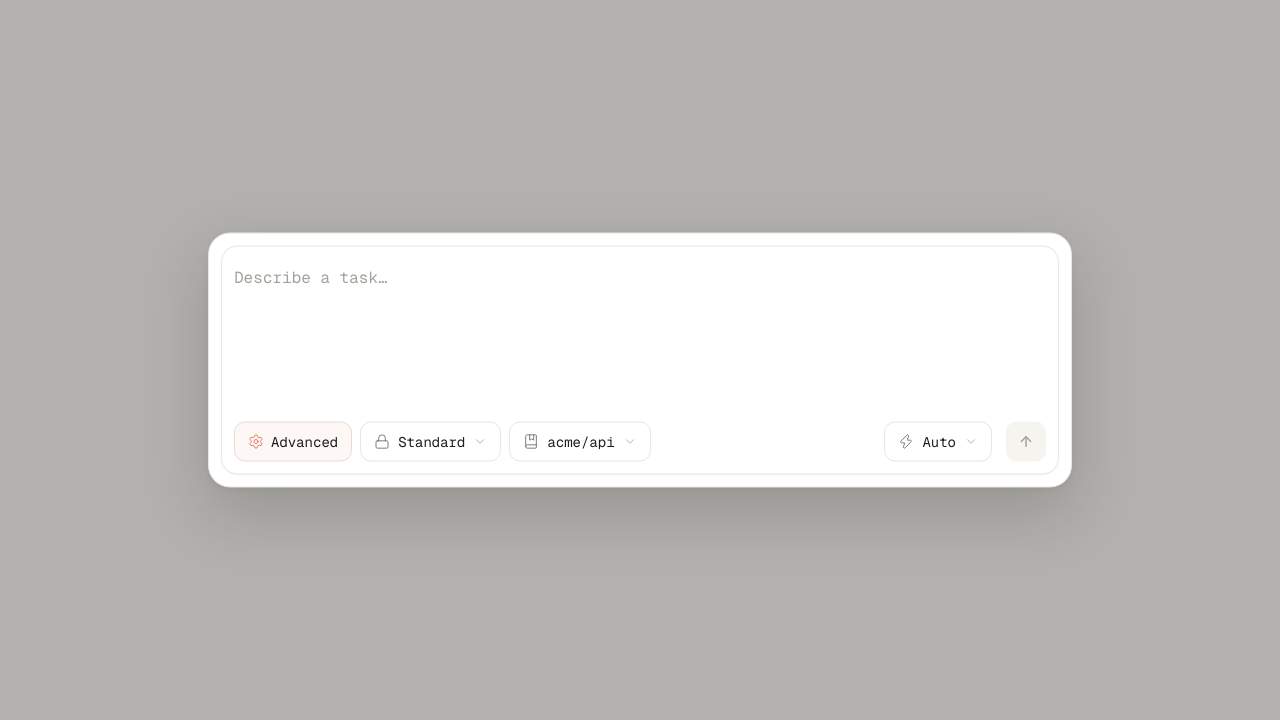
Test: LaunchTaskModal (minimal box) › offers the Network access control on the Standard tier, defaulting to Off
Type "Wire the thing" into the text box with placeholder "Describe a task…" at [640, 332], box left=234, top=262, right=1046, bottom=402
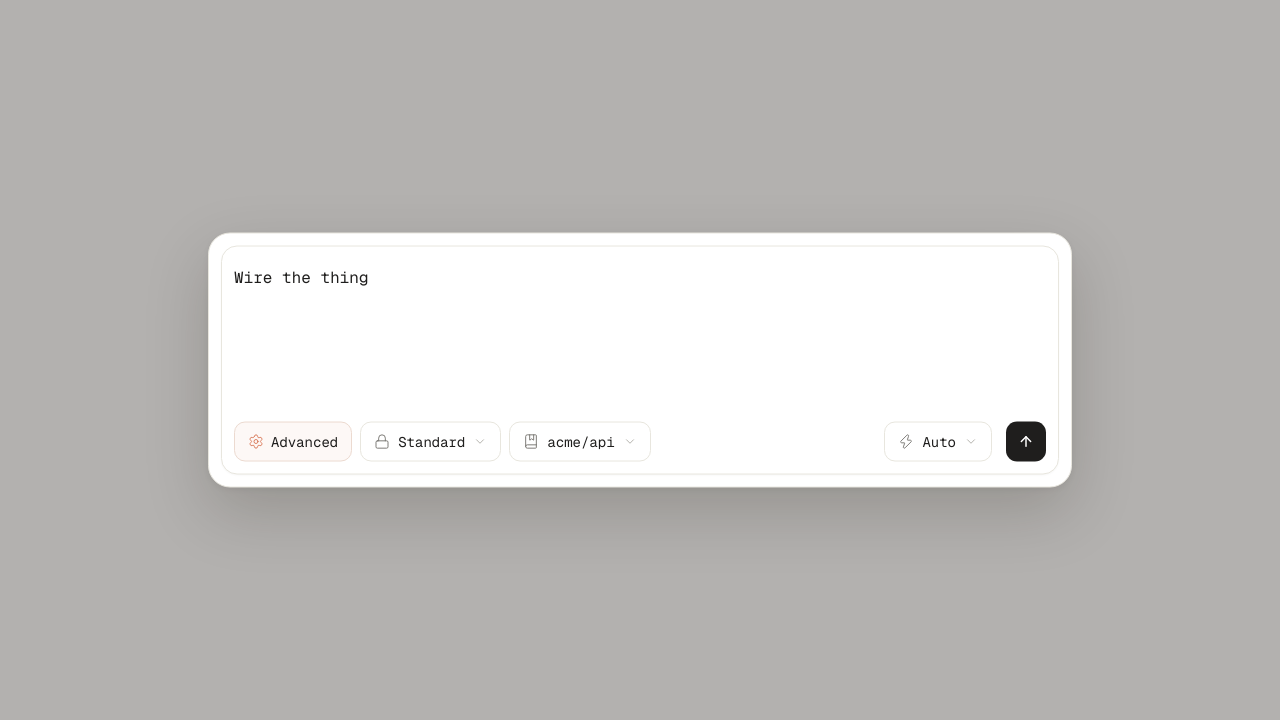
Click the button titled "Model and effort" at [938, 442], box left=884, top=422, right=992, bottom=462
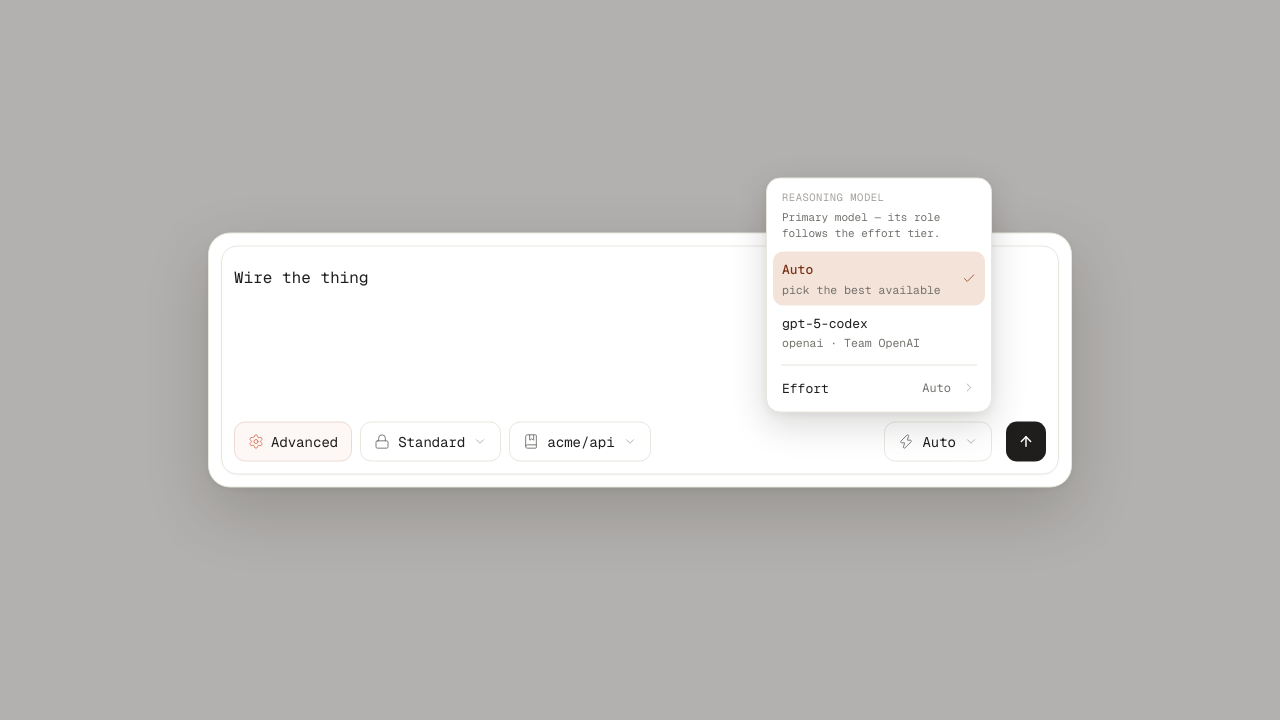
Click the text "Effort" at [805, 388], box left=782, top=379, right=829, bottom=396
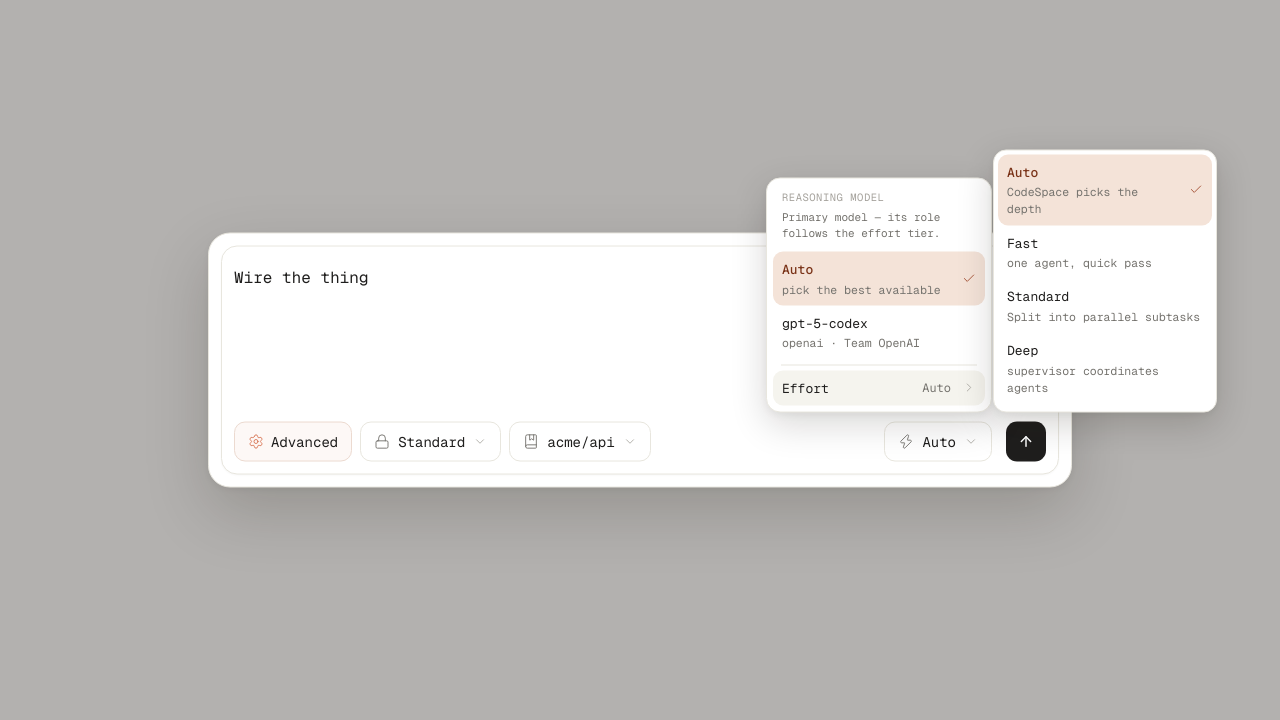
Click the text "Standard" below "Reasoning model" at [1038, 296], box left=1007, top=288, right=1069, bottom=305
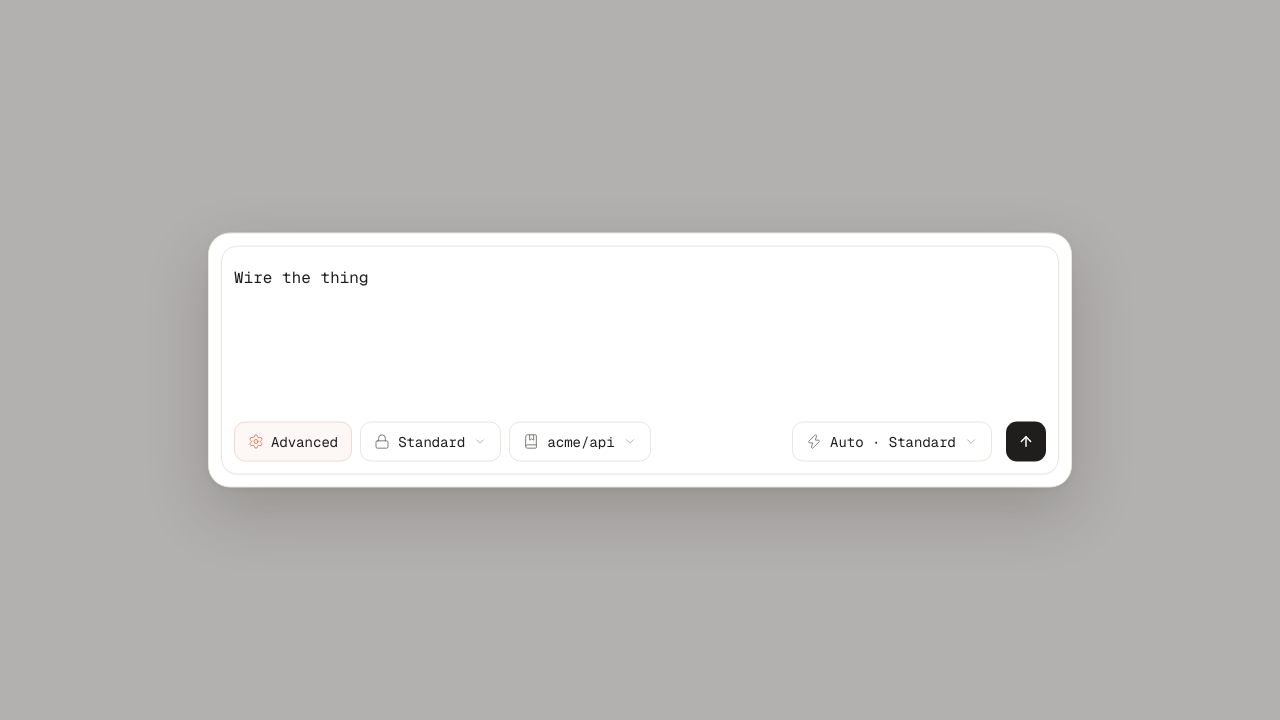
Click the button "Advanced" at [293, 442], box left=234, top=422, right=352, bottom=462
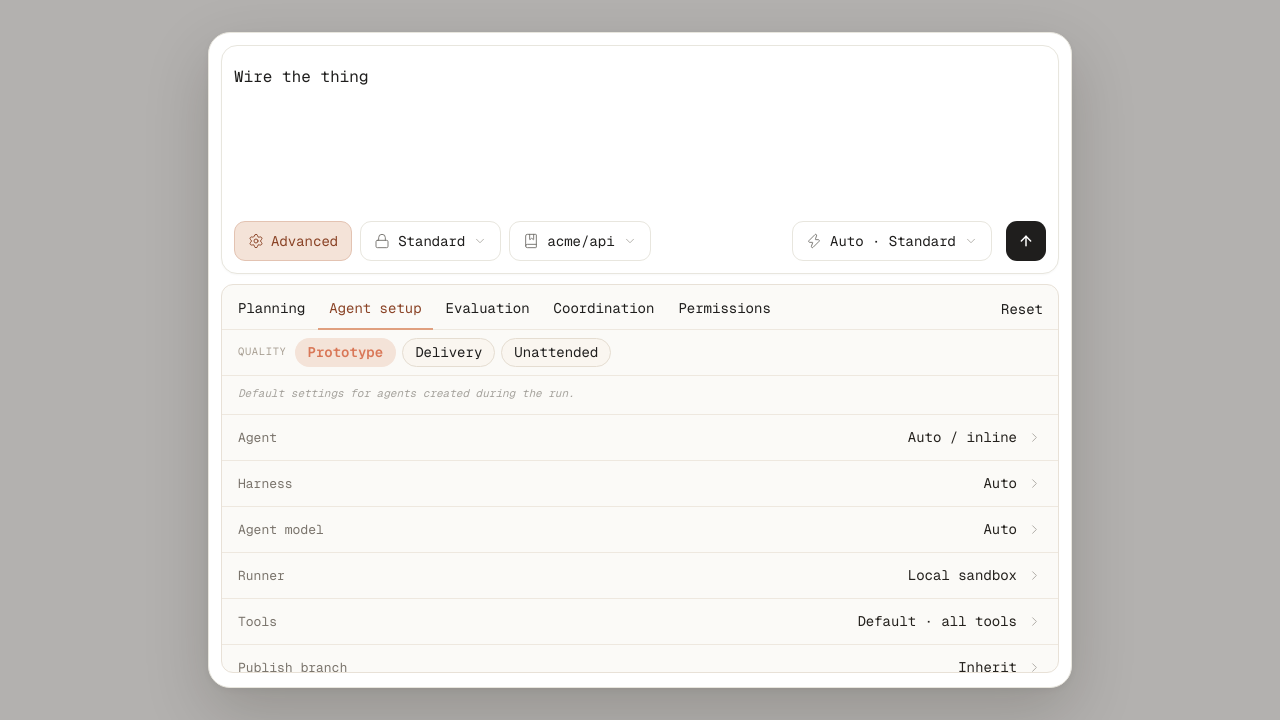
Click the button "Permissions" at [725, 310], box left=667, top=289, right=782, bottom=330
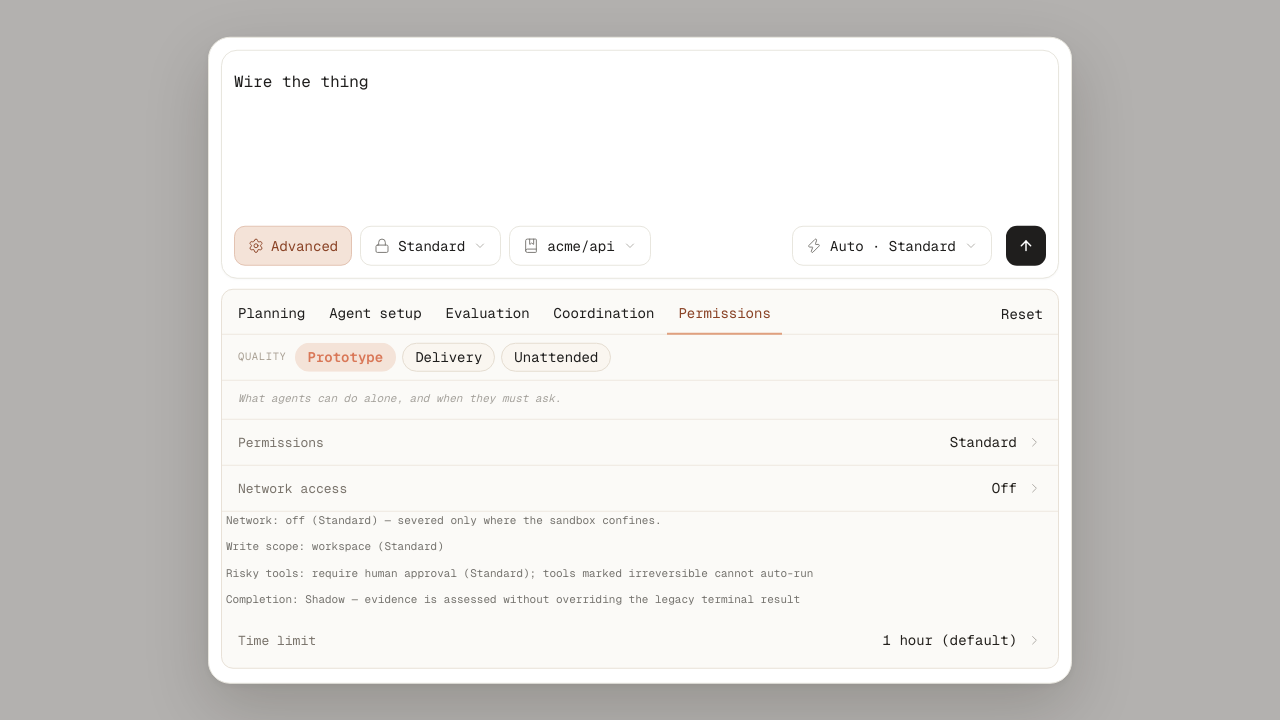
Expected: the button "Network access Off" is shown, left=222, top=466, right=1058, bottom=512
Expected: the text with test id "network-posture" shows "Network: off (Standard)", left=226, top=514, right=662, bottom=528
